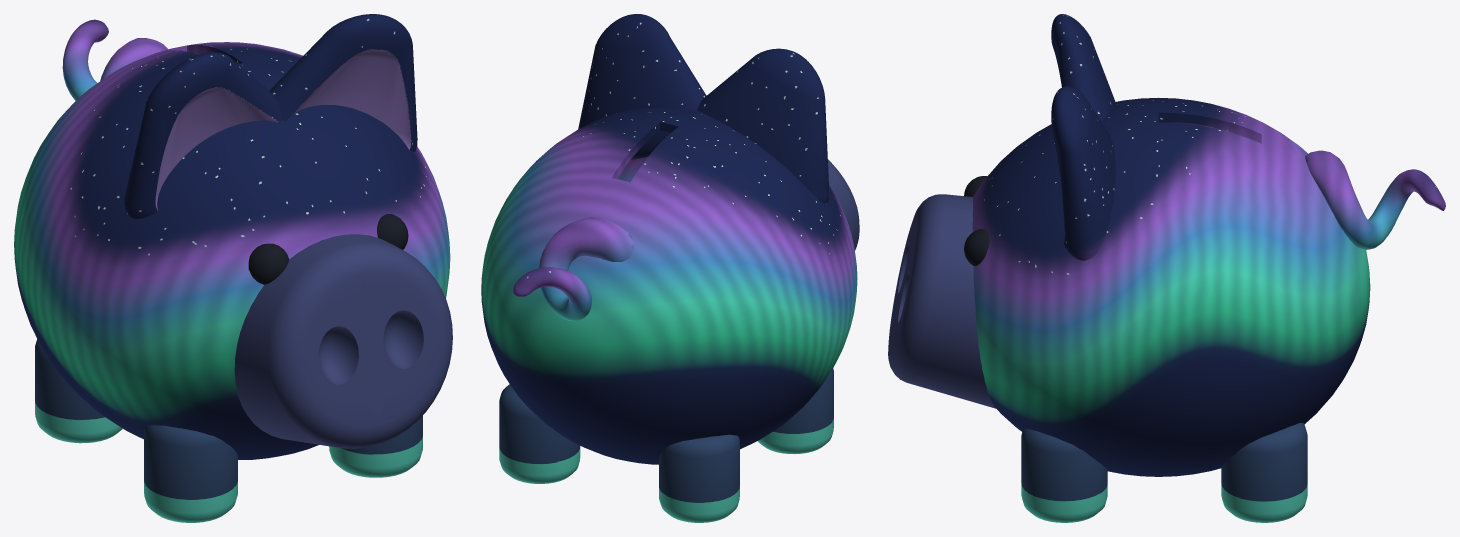
The model's file is aurora-og-v2-complete.fbx.
The picture shows the model from 3 angles, left to right: view 1: azimuth 30°, elevation 25°; view 2: azimuth 150°, elevation 25°; view 3: azimuth 270°, elevation 25°; orthographic projection. The views are drawn at different scales.
Visible parts, largest first — view 1: Body, Snout, Ears, Legs, Tail, EyePreview; view 2: Body, Ears, Legs, Tail, Snout; view 3: Body, Snout, Legs, Ears, Tail, EyePreview.
Part boxes in pixels (x1,y1,x2,y2): Body: (14, 42, 450, 459); Snout: (234, 234, 452, 448); Ears: (124, 14, 417, 218); Legs: (35, 339, 422, 522); Tail: (62, 19, 167, 100); EyePreview: (248, 214, 408, 284); Body: (481, 107, 857, 464); Ears: (578, 14, 829, 203); Legs: (499, 368, 833, 522); Tail: (513, 217, 634, 321); Snout: (828, 159, 859, 250); Body: (972, 97, 1370, 476); Snout: (888, 194, 996, 408); Legs: (1021, 422, 1307, 522); Ears: (1051, 14, 1115, 260); Tail: (1305, 150, 1445, 249); EyePreview: (964, 176, 989, 265).
Size of the model in its own units: 1200 by 1397 by 1708.
3 materials, 2 textured.
